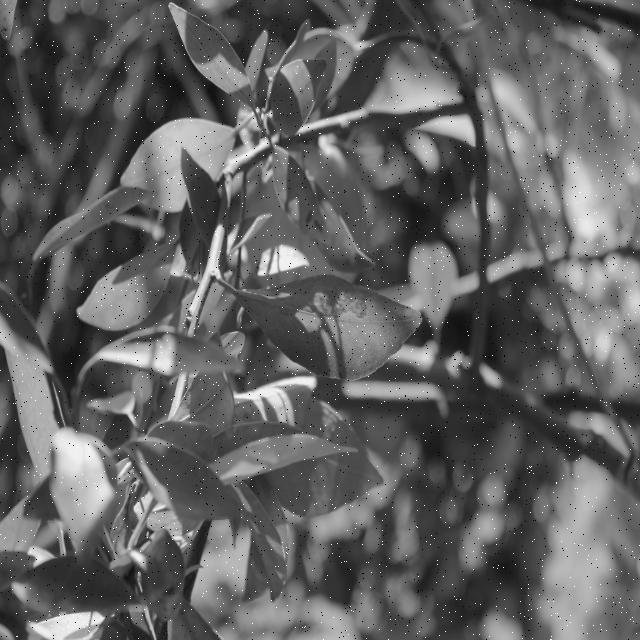canker: (276, 285, 382, 359), (300, 202, 326, 236)
